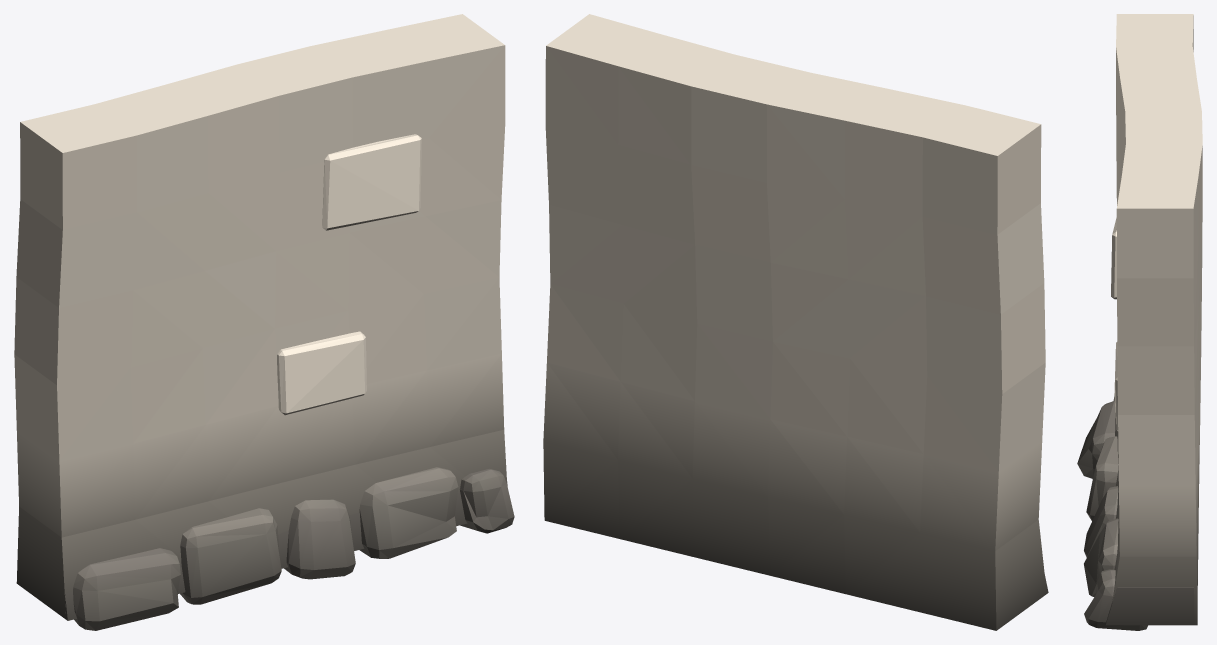
The model's file is SM_VK_Wall_Stone.fbx.
3 renders of one model, left to right at view 1: azimuth 30°, elevation 25°; view 2: azimuth 150°, elevation 25°; view 3: azimuth 270°, elevation 25°, orthographic. The views are drawn at different scales.
Parts seen in each view (by area): view 1: SM_VK_Wall_Stone.001; view 2: SM_VK_Wall_Stone.001; view 3: SM_VK_Wall_Stone.001.
Boxes of the visible parts, x1,y1,x2,y2 form: SM_VK_Wall_Stone.001: (14, 14, 514, 630); SM_VK_Wall_Stone.001: (543, 14, 1048, 630); SM_VK_Wall_Stone.001: (1077, 14, 1202, 630).
Size of the model in its own units: 3.04 by 3.11 by 0.8175.
